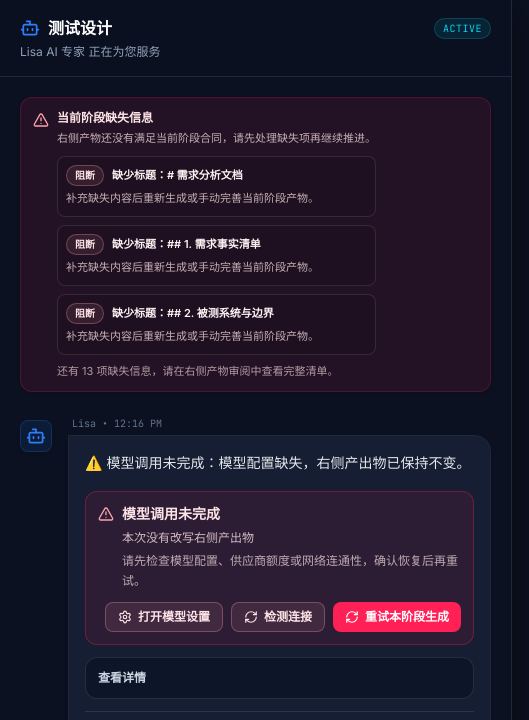
ChatPane Component › shows backend error details from the provider failure connection check
Click the button "检测连接": (278, 617) [231, 602, 325, 632]
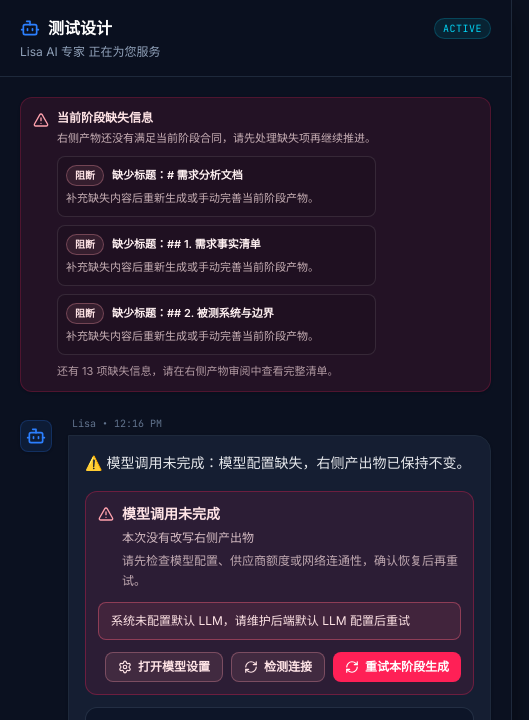
Check: the text "系统未配置默认 LLM，请维护后端默认 LLM 配置后重试" is shown, box [98, 602, 461, 640]
